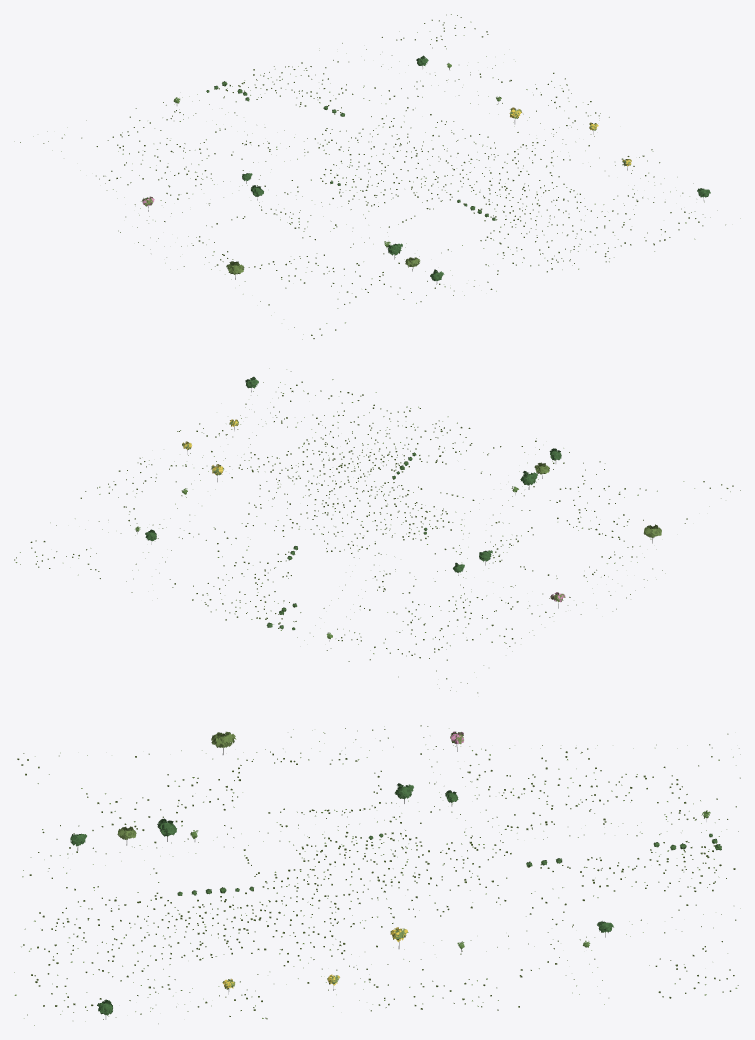
File: Vegetation.fbx
The picture shows the model from 3 angles, top to bottom: view 1: azimuth 30°, elevation 25°; view 2: azimuth 150°, elevation 25°; view 3: azimuth 270°, elevation 25°; orthographic projection. The views are drawn at different scales.
Parts seen in each view (by area): view 1: EXPORT_OT_Vegetation_SA_M01_01_S01_03; view 2: EXPORT_OT_Vegetation_SA_M01_01_S01_03; view 3: EXPORT_OT_Vegetation_SA_M01_01_S01_03.
Part boxes in pixels (left/top/right/bottom): EXPORT_OT_Vegetation_SA_M01_01_S01_03: left=14, top=14, right=740, bottom=339; EXPORT_OT_Vegetation_SA_M01_01_S01_03: left=14, top=368, right=740, bottom=693; EXPORT_OT_Vegetation_SA_M01_01_S01_03: left=14, top=725, right=740, bottom=1025.
Bounding box in the file's own units: 250 × 20.51 × 250.
